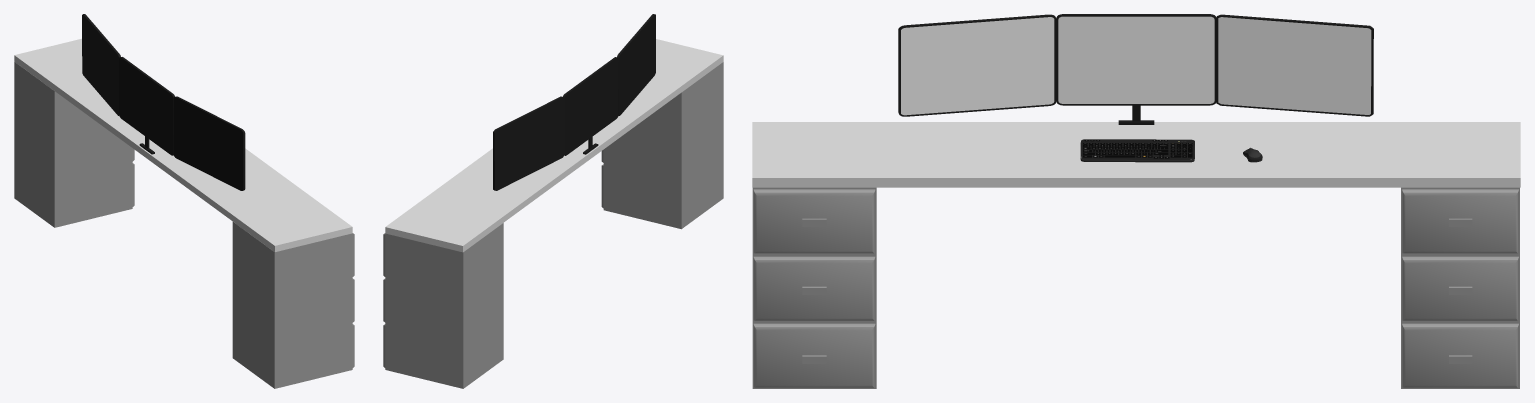
The model's file is Escritorio_Ordenador.fbx.
The picture shows the model from 3 angles, left to right: view 1: azimuth 30°, elevation 25°; view 2: azimuth 150°, elevation 25°; view 3: azimuth 270°, elevation 25°; orthographic projection. The views are drawn at different scales.
Parts seen in each view (by area): view 1: Cubo.008, Cubo.009, Cubo.010, Cubo.013, Cubo.011, Cubo.014; view 2: Cubo.009, Cubo.008, Cubo.010, Cubo.014, Cubo.011, Cubo.013; view 3: Cubo.010, Cubo.008, Cubo.009, Cubo.011, Cubo.013, Cubo.014, Plane.017, Plane.026.
Part boxes in pixels (<box>): Cubo.008: <box>232,221,354,388</box>; Cubo.009: <box>14,62,134,227</box>; Cubo.010: <box>14,38,352,251</box>; Cubo.013: <box>173,96,245,190</box>; Cubo.011: <box>119,57,174,155</box>; Cubo.014: <box>82,14,120,115</box>; Cubo.009: <box>383,223,503,388</box>; Cubo.008: <box>601,62,723,229</box>; Cubo.010: <box>385,39,723,252</box>; Cubo.014: <box>493,96,564,190</box>; Cubo.011: <box>563,57,618,155</box>; Cubo.013: <box>617,14,655,115</box>; Cubo.010: <box>752,122,1520,187</box>; Cubo.008: <box>752,187,876,388</box>; Cubo.009: <box>1401,187,1519,388</box>; Cubo.011: <box>1056,14,1216,105</box>; Cubo.013: <box>898,14,1056,116</box>; Cubo.014: <box>1216,14,1373,116</box>; Plane.017: <box>1083,140,1192,158</box>; Plane.026: <box>1081,139,1193,159</box>.
Size of the model in its own units: 5.14 by 12.84 by 27.92.
13 materials, 1 textured.
